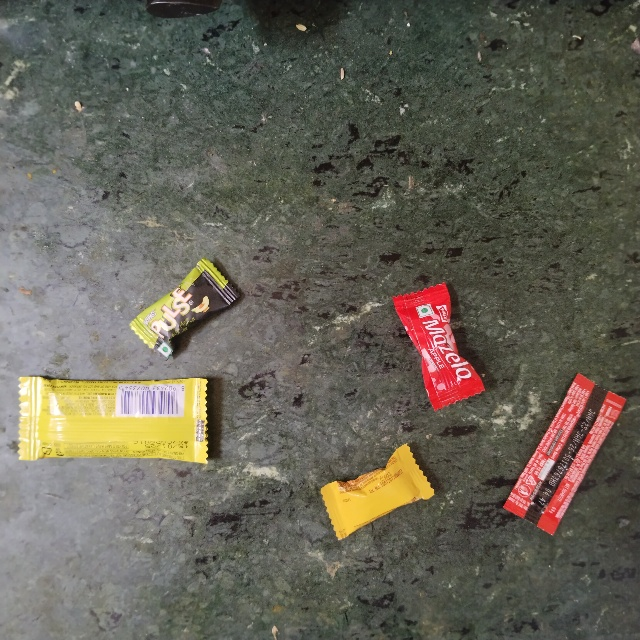Alpenlibe Creamfills: (315, 487, 426, 542)
Mazelo: (387, 301, 457, 420)
Nescafe Coffee: (574, 372, 633, 530)
Orbit: (19, 374, 209, 466)
Pulse: (206, 252, 262, 362)
